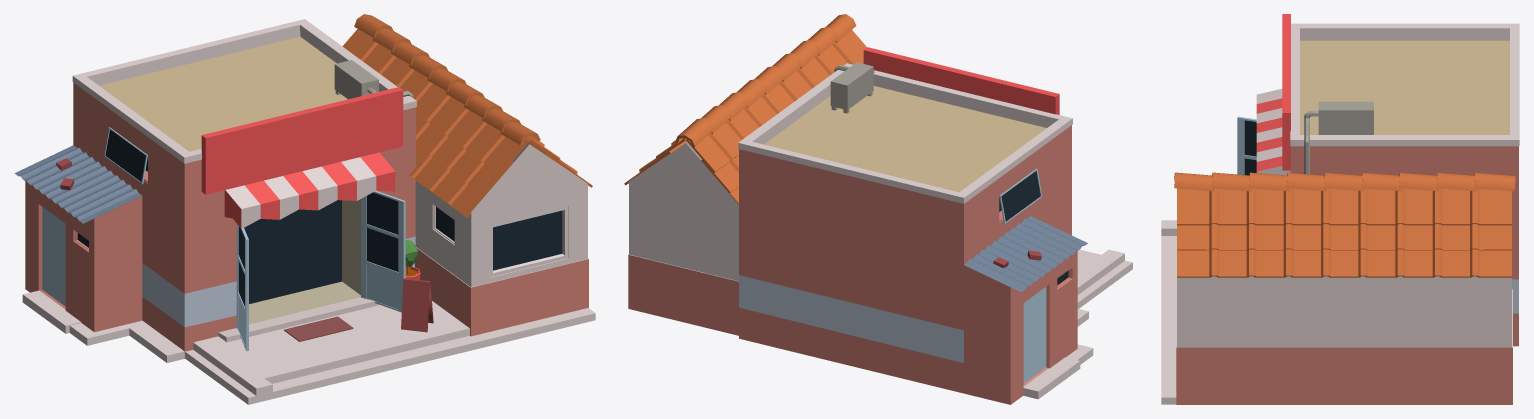
The model's file is Cafe01.fbx.
3 views of the same model, side by side, from view 1: azimuth 30°, elevation 25°; view 2: azimuth 150°, elevation 25°; view 3: azimuth 270°, elevation 25° (orthographic). The views are drawn at different scales.
Parts seen in each view (by area): view 1: Part01, Part02, floor, Part03, Board; view 2: Part01, Part02, Part03, floor; view 3: Part02, Part01, floor.
Boxes of the visible parts, <box> form: Part01: <box>72,19,416,358</box>; Part02: <box>342,14,592,336</box>; floor: <box>22,290,595,404</box>; Part03: <box>14,145,142,332</box>; Board: <box>401,278,433,332</box>; Part01: <box>738,47,1072,393</box>; Part02: <box>624,14,866,335</box>; Part03: <box>964,216,1087,404</box>; floor: <box>1023,249,1132,399</box>; Part02: <box>1174,172,1515,404</box>; Part01: <box>1237,14,1519,346</box>; floor: <box>1161,220,1176,404</box>.
Bounding box in the file's own units: 217 × 157 × 109.
